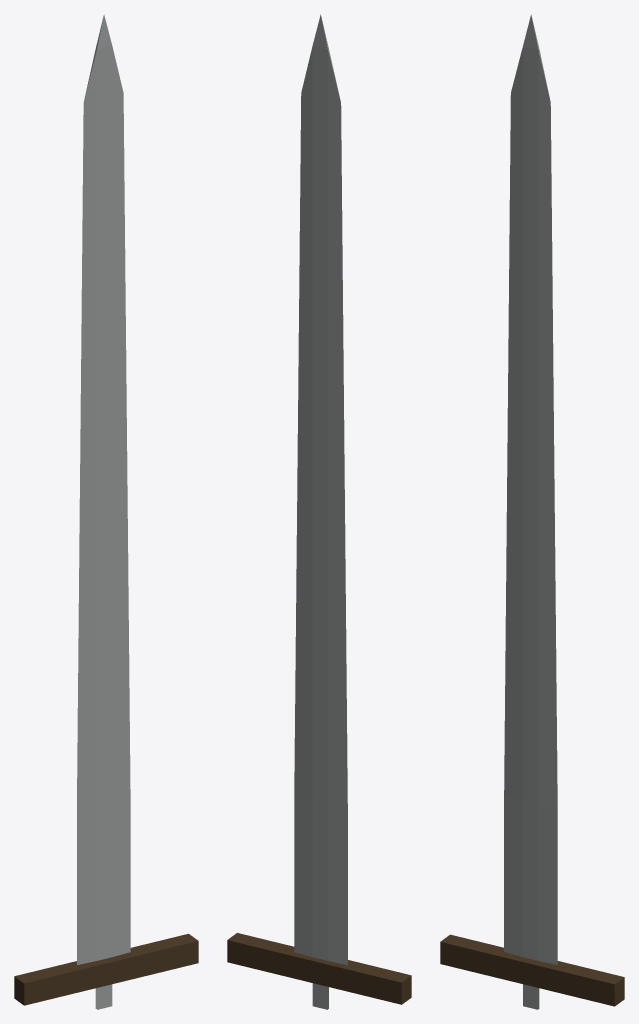
File: Miecz_brandonka_v6.fbx
3 views of the same model, side by side, from view 1: azimuth 30°, elevation 25°; view 2: azimuth 150°, elevation 25°; view 3: azimuth 330°, elevation 25° (orthographic).
Parts seen in each view (by area): view 1: Cube, Cube.001; view 2: Cube, Cube.001; view 3: Cube, Cube.001.
Part boxes in pixels (x1,y1,x2,y2): Cube: (77, 14, 130, 1009); Cube.001: (14, 933, 198, 1005); Cube: (294, 14, 347, 1009); Cube.001: (227, 933, 411, 1004); Cube: (504, 14, 557, 1009); Cube.001: (440, 934, 624, 1006).
Bounding box in the file's own units: 145 × 789 × 14.33.
